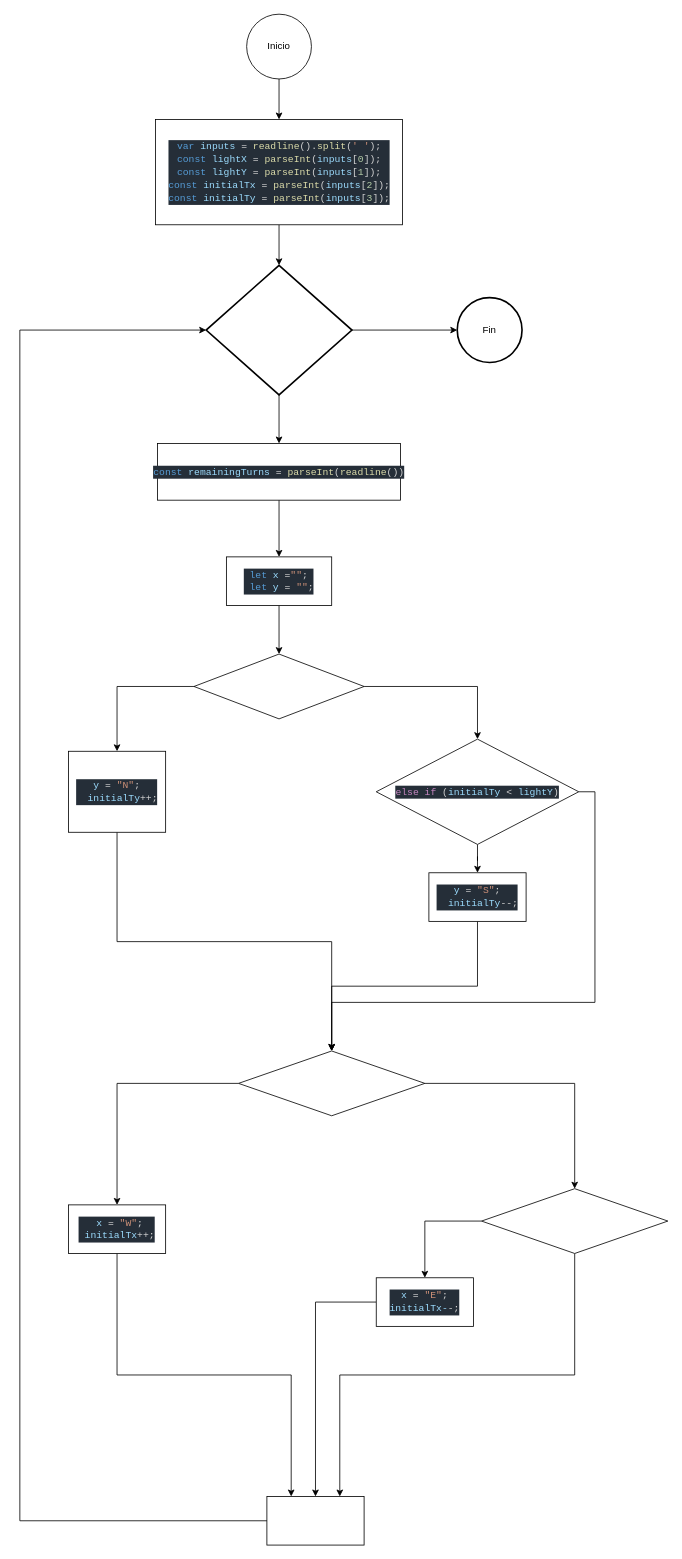
Image size: 682x1559. Some labels were removed from this diagram. The centre of each missing label's shape, as x and y in pixels:
"cosole . log ( x , y );" goes at [315,1520].
"if ( initialTx < lightX )" goes at [574,1220].
"if ( initialTx > lightX )" goes at [331,1083].
"if ( initialTy > lightY )" goes at [278,686].
"while ( true )" goes at [278,329].
